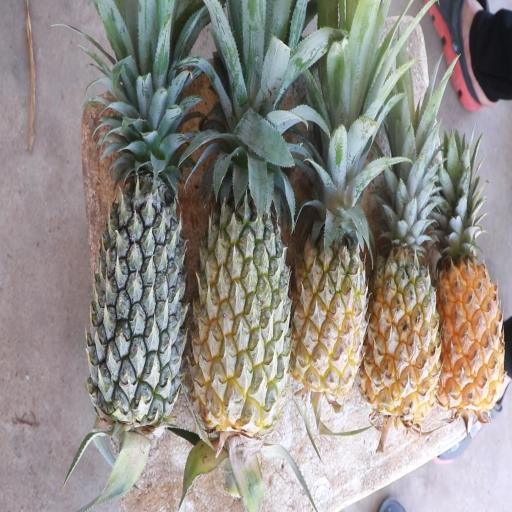------------------------------: (194, 154, 292, 436)
Pineapple - v8 v1: (293, 161, 373, 395), (367, 196, 441, 412), (436, 210, 510, 414)
